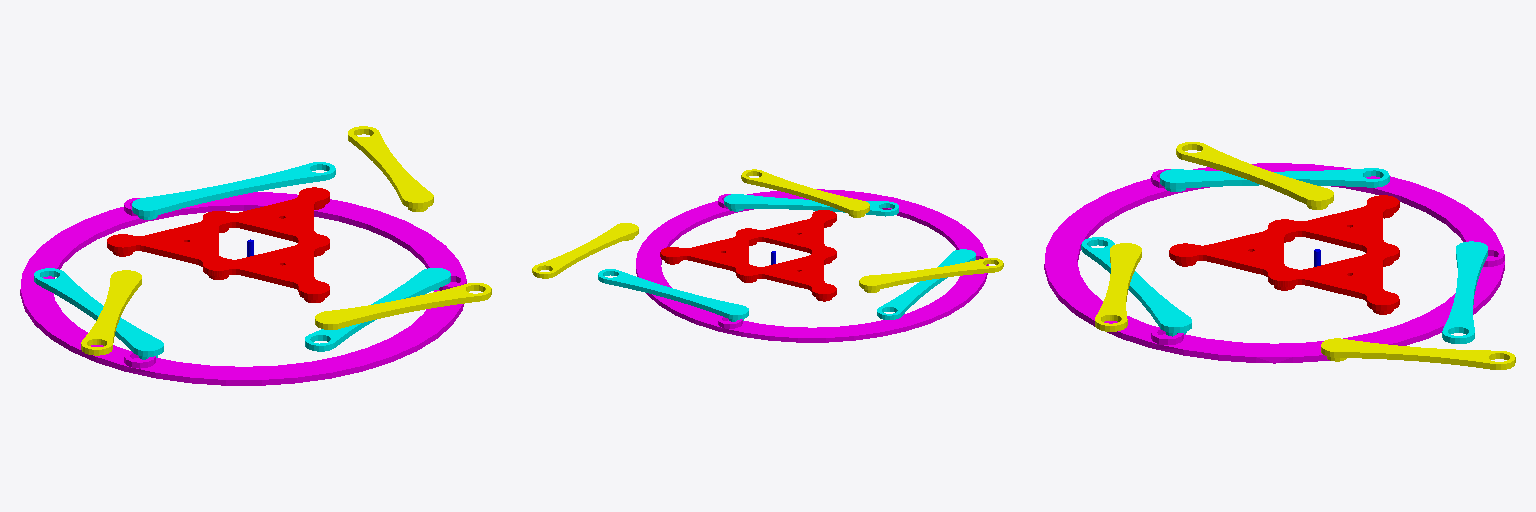
robot.urdf — 3RRR:
<?xml version="1.0" encoding="utf-8"?>
<!-- This URDF was automatically created by SolidWorks to URDF Exporter! Originally created by [author] ([email redacted]) 
     Commit Version: 1.6.0-4-g7f85cfe  Build Version: 1.6.7995.38578
     For more information, please see http://wiki.ros.org/sw_urdf_exporter -->
<robot
  name="3RRR">
  <link
    name="Base">
    <inertial>
      <origin
        xyz="-6.605413806351E-16 -3.17888250122454E-15 0.00534836374604153"
        rpy="0 0 0" />
      <mass
        value="0.97649535402911" />
      <inertia
        ixx="0.0442557968886024"
        ixy="-1.60830380859908E-16"
        ixz="6.90467039096541E-18"
        iyy="0.0442557968886033"
        iyz="2.9961485964723E-17"
        izz="0.0884887523527264" />
    </inertial>
    <visual>
      <origin
        xyz="0 0 0"
        rpy="0 0 0" />
      <geometry>
        <mesh
          filename="package://3RRR/meshes/Base.STL" />
      </geometry>
      <material
        name="">
        <color
          rgba="1 0 1 1" />
      </material>
    </visual>
    <collision>
      <origin
        xyz="0 0 0"
        rpy="0 0 0" />
      <geometry>
        <mesh
          filename="package://3RRR/meshes/Base.STL" />
      </geometry>
    </collision>
  </link>
  <link
    name="Proximal_Link_1">
    <inertial>
      <origin
        xyz="0.125760356902669 -0.0328599019188576 -0.00566725132133209"
        rpy="0 0 0" />
      <mass
        value="0.124327488543993" />
      <inertia
        ixx="0.000103878846049437"
        ixy="0.000333488962144945"
        ixz="-1.04327876635405E-05"
        iyy="0.00129306029105497"
        iyz="2.72598025122248E-06"
        izz="0.0013933185659197" />
    </inertial>
    <visual>
      <origin
        xyz="0 0 0"
        rpy="0 0 0" />
      <geometry>
        <mesh
          filename="package://3RRR/meshes/Proximal_Link_1.STL" />
      </geometry>
      <material
        name="">
        <color
          rgba="0 1 1 1" />
      </material>
    </visual>
    <collision>
      <origin
        xyz="0 0 0"
        rpy="0 0 0" />
      <geometry>
        <mesh
          filename="package://3RRR/meshes/Proximal_Link_1.STL" />
      </geometry>
    </collision>
  </link>
  <joint
    name="Proximal_Joint_1"
    type="continuous">
    <origin
      xyz="-0.259807620025699 -0.149999987823395 0.03"
      rpy="0 0 0" />
    <parent
      link="Base" />
    <child
      link="Proximal_Link_1" />
    <axis
      xyz="0 0 1" />
  </joint>
  <link
    name="Distal_Link_1">
    <inertial>
      <origin
        xyz="-0.0284508779172917 0.102193979676703 -0.00575678198789127"
        rpy="0 0 0" />
      <mass
        value="0.109618995082061" />
      <inertia
        ixx="0.000804655386010645"
        ixy="0.000219736459397529"
        ixz="2.36021885468486E-06"
        iyy="7.65489682577738E-05"
        iyz="-8.47777556704603E-06"
        izz="0.000877843779154364" />
    </inertial>
    <visual>
      <origin
        xyz="0 0 0"
        rpy="0 0 0" />
      <geometry>
        <mesh
          filename="package://3RRR/meshes/Distal_Link_1.STL" />
      </geometry>
      <material
        name="">
        <color
          rgba="1 1 0 1" />
      </material>
    </visual>
    <collision>
      <origin
        xyz="0 0 0"
        rpy="0 0 0" />
      <geometry>
        <mesh
          filename="package://3RRR/meshes/Distal_Link_1.STL" />
      </geometry>
    </collision>
  </link>
  <joint
    name="Distal_Joint_1"
    type="continuous">
    <origin
      xyz="0.290255371031986 -0.0758407594233355 0.00999999999999951"
      rpy="0 0 0" />
    <parent
      link="Proximal_Link_1" />
    <child
      link="Distal_Link_1" />
    <axis
      xyz="0 0 1" />
  </joint>
  <link
    name="Platform_1">
    <inertial>
      <origin
        xyz="0.0866025100946127 0.0499999825156258 -0.00621550806782306"
        rpy="0 0 0" />
      <mass
        value="0.204748162200477" />
      <inertia
        ixx="0.000566208682172371"
        ixy="-1.23947503241835E-17"
        ixz="-2.7619049018082E-19"
        iyy="0.000566208682172315"
        iyz="4.71492949155226E-18"
        izz="0.00112463244849747" />
    </inertial>
    <visual>
      <origin
        xyz="0 0 0"
        rpy="0 0 0" />
      <geometry>
        <mesh
          filename="package://3RRR/meshes/Platform_1.STL" />
      </geometry>
      <material
        name="">
        <color
          rgba="1 0 0 1" />
      </material>
    </visual>
    <collision>
      <origin
        xyz="0 0 0"
        rpy="0 0 0" />
      <geometry>
        <mesh
          filename="package://3RRR/meshes/Platform_1.STL" />
      </geometry>
    </collision>
  </link>
  <joint
    name="Platform_Joint_1"
    type="continuous">
    <origin
      xyz="-0.0670502383712165 0.24084074724673 0.0100000000000002"
      rpy="0 0 0" />
    <parent
      link="Distal_Link_1" />
    <child
      link="Platform_1" />
    <axis
      xyz="0 0 -1" />
  </joint>
  <link
    name="Pen_1">
    <inertial>
      <origin
        xyz="4.85722573273506E-17 -1.38777878078145E-17 0.0282692307692308"
        rpy="0 0 0" />
      <mass
        value="0.00340339204138894" />
      <inertia
        ixx="5.62818337732057E-07"
        ixy="-3.62721401838554E-24"
        ixz="-8.1668323214017E-22"
        iyy="5.62818337732057E-07"
        iyz="1.63847144627279E-22"
        izz="4.12334035783661E-08" />
    </inertial>
    <visual>
      <origin
        xyz="0 0 0"
        rpy="0 0 0" />
      <geometry>
        <mesh
          filename="package://3RRR/meshes/Pen_1.STL" />
      </geometry>
      <material
        name="">
        <color
          rgba="0 0 1 1" />
      </material>
    </visual>
    <collision>
      <origin
        xyz="0 0 0"
        rpy="0 0 0" />
      <geometry>
        <mesh
          filename="package://3RRR/meshes/Pen_1.STL" />
      </geometry>
    </collision>
  </link>
  <joint
    name="Pen_Joint_1"
    type="fixed">
    <origin
      xyz="0.0866025100946131 0.0499999825156236 -0.0500000000000001"
      rpy="0 0 0" />
    <parent
      link="Platform_1" />
    <child
      link="Pen_1" />
    <axis
      xyz="0 0 0" />
  </joint>
  <link
    name="Proximal_Link_2">
    <inertial>
      <origin
        xyz="0.0418779305079323 0.123051524422847 -0.00566725132133179"
        rpy="0 0 0" />
      <mass
        value="0.124327488543994" />
      <inertia
        ixx="0.00123866971628232"
        ixy="-0.000415856724787782"
        ixz="-3.47409512336009E-06"
        iyy="0.000158269420822236"
        iyz="-1.02080698389299E-05"
        izz="0.00139331856591985" />
    </inertial>
    <visual>
      <origin
        xyz="0 0 0"
        rpy="0 0 0" />
      <geometry>
        <mesh
          filename="package://3RRR/meshes/Proximal_Link_2.STL" />
      </geometry>
      <material
        name="">
        <color
          rgba="0 1 1 1" />
      </material>
    </visual>
    <collision>
      <origin
        xyz="0 0 0"
        rpy="0 0 0" />
      <geometry>
        <mesh
          filename="package://3RRR/meshes/Proximal_Link_2.STL" />
      </geometry>
    </collision>
  </link>
  <joint
    name="Proximal_Joint_2"
    type="continuous">
    <origin
      xyz="0.259807610563355 -0.149999991221948 0.0299999999999999"
      rpy="0 0 0" />
    <parent
      link="Base" />
    <child
      link="Proximal_Link_2" />
    <axis
      xyz="0 0 1" />
  </joint>
  <link
    name="Distal_Link_2">
    <inertial>
      <origin
        xyz="-0.0932911716913216 -0.0504957346801424 -0.00575678198789124"
        rpy="0 0 0" />
      <mass
        value="0.109618995082061" />
      <inertia
        ixx="0.000208078089939355"
        ixy="-0.000356021627652015"
        ixz="7.73921926211201E-06"
        iyy="0.000673126264329077"
        iyz="4.18900904990346E-06"
        izz="0.000877843779154377" />
    </inertial>
    <visual>
      <origin
        xyz="0 0 0"
        rpy="0 0 0" />
      <geometry>
        <mesh
          filename="package://3RRR/meshes/Distal_Link_2.STL" />
      </geometry>
      <material
        name="">
        <color
          rgba="1 1 0 1" />
      </material>
    </visual>
    <collision>
      <origin
        xyz="0 0 0"
        rpy="0 0 0" />
      <geometry>
        <mesh
          filename="package://3RRR/meshes/Distal_Link_2.STL" />
      </geometry>
    </collision>
  </link>
  <joint
    name="Distal_Joint_2"
    type="continuous">
    <origin
      xyz="0.0966544049109075 0.284003385664662 0.0100000000000001"
      rpy="0 0 0" />
    <parent
      link="Proximal_Link_2" />
    <child
      link="Distal_Link_2" />
    <axis
      xyz="0 0 1" />
  </joint>
  <link
    name="Platform_2">
    <inertial>
      <origin
        xyz="-0.0866025100946149 0.0499999825156237 -0.00621550806782279"
        rpy="0 0 0" />
      <mass
        value="0.204748162200477" />
      <inertia
        ixx="0.000566208682172371"
        ixy="-1.2403409707052E-17"
        ixz="-2.76974763643588E-19"
        iyy="0.000566208682172315"
        iyz="4.72154693645268E-18"
        izz="0.00112463244849747" />
    </inertial>
    <visual>
      <origin
        xyz="0 0 0"
        rpy="0 0 0" />
      <geometry>
        <mesh
          filename="package://3RRR/meshes/Platform_2.STL" />
      </geometry>
      <material
        name="">
        <color
          rgba="1 0 0 1" />
      </material>
    </visual>
    <collision>
      <origin
        xyz="0 0 0"
        rpy="0 0 0" />
      <geometry>
        <mesh
          filename="package://3RRR/meshes/Platform_2.STL" />
      </geometry>
    </collision>
  </link>
  <joint
    name="Platform_Joint_2"
    type="continuous">
    <origin
      xyz="-0.219859482649965 -0.119003394442713 0.00999999999999951"
      rpy="0 0 0" />
    <parent
      link="Distal_Link_2" />
    <child
      link="Platform_2" />
    <axis
      xyz="0 0 -1" />
  </joint>
  <link
    name="Pen_2">
    <inertial>
      <origin
        xyz="4.85722573273506E-17 -1.38777878078145E-17 0.0282692307692308"
        rpy="0 0 0" />
      <mass
        value="0.00340339204138894" />
      <inertia
        ixx="5.62818337732057E-07"
        ixy="-3.62721401838554E-24"
        ixz="-8.1668323214017E-22"
        iyy="5.62818337732057E-07"
        iyz="1.63847144627279E-22"
        izz="4.12334035783661E-08" />
    </inertial>
    <visual>
      <origin
        xyz="0 0 0"
        rpy="0 0 0" />
      <geometry>
        <mesh
          filename="package://3RRR/meshes/Pen_2.STL" />
      </geometry>
      <material
        name="">
        <color
          rgba="0 0 1 1" />
      </material>
    </visual>
    <collision>
      <origin
        xyz="0 0 0"
        rpy="0 0 0" />
      <geometry>
        <mesh
          filename="package://3RRR/meshes/Pen_2.STL" />
      </geometry>
    </collision>
  </link>
  <joint
    name="Pen_Joint_2"
    type="fixed">
    <origin
      xyz="-0.0866025100946145 0.0499999825156215 -0.0499999999999999"
      rpy="0 0 0" />
    <parent
      link="Platform_2" />
    <child
      link="Pen_2" />
    <axis
      xyz="0 0 0" />
  </joint>
  <link
    name="Proximal_Link_3">
    <inertial>
      <origin
        xyz="-0.0759200738592423 -0.10550624440741 -0.00566725132133162"
        rpy="0 0 0" />
      <mass
        value="0.124327488543993" />
      <inertia
        ixx="0.000915055567953722"
        ixy="-0.000646408168282344"
        ixz="6.29815820413009E-06"
        iyy="0.000481883569150672"
        iyz="8.75255562669496E-06"
        izz="0.00139331856591969" />
    </inertial>
    <visual>
      <origin
        xyz="0 0 0"
        rpy="0 0 0" />
      <geometry>
        <mesh
          filename="package://3RRR/meshes/Proximal_Link_3.STL" />
      </geometry>
      <material
        name="">
        <color
          rgba="0 1 1 1" />
      </material>
    </visual>
    <collision>
      <origin
        xyz="0 0 0"
        rpy="0 0 0" />
      <geometry>
        <mesh
          filename="package://3RRR/meshes/Proximal_Link_3.STL" />
      </geometry>
    </collision>
  </link>
  <joint
    name="Proximal_Joint_3"
    type="continuous">
    <origin
      xyz="0 0.29999997277284 0.0299999999999998"
      rpy="0 0 0" />
    <parent
      link="Base" />
    <child
      link="Proximal_Link_3" />
    <axis
      xyz="0 0 1" />
  </joint>
  <link
    name="Distal_Link_3">
    <inertial>
      <origin
        xyz="0.0955674413545898 0.0460426551076721 -0.00575678198789149"
        rpy="0 0 0" />
      <mass
        value="0.109618995082061" />
      <inertia
        ixx="0.000175588693399224"
        ixy="-0.000332545792215708"
        ixz="-7.92805331472561E-06"
        iyy="0.000705615660869294"
        iyz="-3.81959189522254E-06"
        izz="0.000877843779154462" />
    </inertial>
    <visual>
      <origin
        xyz="0 0 0"
        rpy="0 0 0" />
      <geometry>
        <mesh
          filename="package://3RRR/meshes/Distal_Link_3.STL" />
      </geometry>
      <material
        name="">
        <color
          rgba="1 1 0 1" />
      </material>
    </visual>
    <collision>
      <origin
        xyz="0 0 0"
        rpy="0 0 0" />
      <geometry>
        <mesh
          filename="package://3RRR/meshes/Distal_Link_3.STL" />
      </geometry>
    </collision>
  </link>
  <joint
    name="Distal_Joint_3"
    type="continuous">
    <origin
      xyz="-0.175223889501665 -0.243508838528245 0.0100000000000004"
      rpy="0 0 0" />
    <parent
      link="Proximal_Link_3" />
    <child
      link="Distal_Link_3" />
    <axis
      xyz="0 0 1" />
  </joint>
  <link
    name="Platform_3">
    <inertial>
      <origin
        xyz="-4.78783679369599E-16 -0.0999999650312424 -0.00621550806782298"
        rpy="0 0 0" />
      <mass
        value="0.204748162200477" />
      <inertia
        ixx="0.00056620868217237"
        ixy="-1.24093500608381E-17"
        ixz="-2.74753632241765E-19"
        iyy="0.000566208682172315"
        iyz="4.71823821400247E-18"
        izz="0.00112463244849747" />
    </inertial>
    <visual>
      <origin
        xyz="0 0 0"
        rpy="0 0 0" />
      <geometry>
        <mesh
          filename="package://3RRR/meshes/Platform_3.STL" />
      </geometry>
      <material
        name="">
        <color
          rgba="1 0 0 1" />
      </material>
    </visual>
    <collision>
      <origin
        xyz="0 0 0"
        rpy="0 0 0" />
      <geometry>
        <mesh
          filename="package://3RRR/meshes/Platform_3.STL" />
      </geometry>
    </collision>
  </link>
  <joint
    name="Platform_Joint_3"
    type="continuous">
    <origin
      xyz="0.225223971716447 0.108508813302272 0.00999999999999947"
      rpy="0 0 0" />
    <parent
      link="Distal_Link_3" />
    <child
      link="Platform_3" />
    <axis
      xyz="0 0 -1" />
  </joint>
  <link
    name="Pen_3">
    <inertial>
      <origin
        xyz="4.85722573273506E-17 -1.38777878078145E-17 0.0282692307692308"
        rpy="0 0 0" />
      <mass
        value="0.00340339204138894" />
      <inertia
        ixx="5.62818337732057E-07"
        ixy="-3.62721401838554E-24"
        ixz="-8.1668323214017E-22"
        iyy="5.62818337732057E-07"
        iyz="1.63847144627279E-22"
        izz="4.12334035783661E-08" />
    </inertial>
    <visual>
      <origin
        xyz="0 0 0"
        rpy="0 0 0" />
      <geometry>
        <mesh
          filename="package://3RRR/meshes/Pen_3.STL" />
      </geometry>
      <material
        name="">
        <color
          rgba="0 0 1 1" />
      </material>
    </visual>
    <collision>
      <origin
        xyz="0 0 0"
        rpy="0 0 0" />
      <geometry>
        <mesh
          filename="package://3RRR/meshes/Pen_3.STL" />
      </geometry>
    </collision>
  </link>
  <joint
    name="Pen_Joint_3"
    type="fixed">
    <origin
      xyz="0 -0.0999999650312446 -0.05"
      rpy="0 0 0" />
    <parent
      link="Platform_3" />
    <child
      link="Pen_3" />
    <axis
      xyz="0 0 0" />
  </joint>
</robot>

--- Facts derived from the render (not from the file) ---
3 views of the same robot in one strip: view 1: azimuth 30°, elevation 25°; view 2: azimuth 150°, elevation 25°; view 3: azimuth 270°, elevation 25° (orthographic).
Robot: 3RRR — 13 links, 12 joints (9 continuous, 3 fixed); root link Base; default pose: all joints at 0.
Visible links, largest first — view 1: Base, Platform_1, Platform_2, Platform_3, Proximal_Link_3, Distal_Link_1, Proximal_Link_1, Distal_Link_2, Distal_Link_3, Proximal_Link_2; view 2: Base, Platform_2, Platform_3, Proximal_Link_3, Platform_1, Distal_Link_3, Distal_Link_1, Distal_Link_2, Proximal_Link_2, Proximal_Link_1; view 3: Base, Platform_2, Platform_1, Platform_3, Distal_Link_2, Proximal_Link_1, Distal_Link_3, Proximal_Link_3, Proximal_Link_2, Distal_Link_1.
Boxes of the visible links, x1,y1,x2,y2 form: Base: (20, 192, 466, 385); Platform_1: (203, 235, 329, 302); Platform_2: (203, 187, 329, 251); Platform_3: (107, 211, 233, 278); Proximal_Link_3: (132, 162, 335, 219); Distal_Link_1: (315, 283, 491, 329); Proximal_Link_1: (34, 268, 163, 359); Distal_Link_2: (348, 126, 433, 211); Distal_Link_3: (81, 270, 141, 355); Proximal_Link_2: (305, 268, 450, 351); Base: (636, 189, 988, 342); Platform_2: (660, 229, 760, 282); Platform_3: (736, 247, 836, 301); Proximal_Link_3: (598, 269, 748, 321); Platform_1: (736, 210, 836, 264); Distal_Link_3: (859, 258, 1003, 292); Distal_Link_1: (741, 169, 869, 217); Distal_Link_2: (532, 223, 638, 278); Proximal_Link_2: (724, 194, 898, 216); Proximal_Link_1: (877, 249, 975, 319); Base: (1044, 163, 1504, 363); Platform_2: (1268, 243, 1399, 314); Platform_1: (1169, 219, 1299, 290); Platform_3: (1268, 195, 1399, 266); Distal_Link_2: (1321, 338, 1515, 369); Proximal_Link_1: (1160, 168, 1389, 191); Distal_Link_3: (1176, 142, 1333, 209); Proximal_Link_3: (1442, 241, 1487, 343); Proximal_Link_2: (1081, 237, 1191, 336); Distal_Link_1: (1095, 243, 1141, 331).
Bounding box of the posed robot: 0.8011 × 0.7158 × 0.05 m (x, y, z).
11 mesh visuals loaded from 13 distinct referenced files (11 binary STL); not drawn: 2 (reference not matched to a file when rendering).
